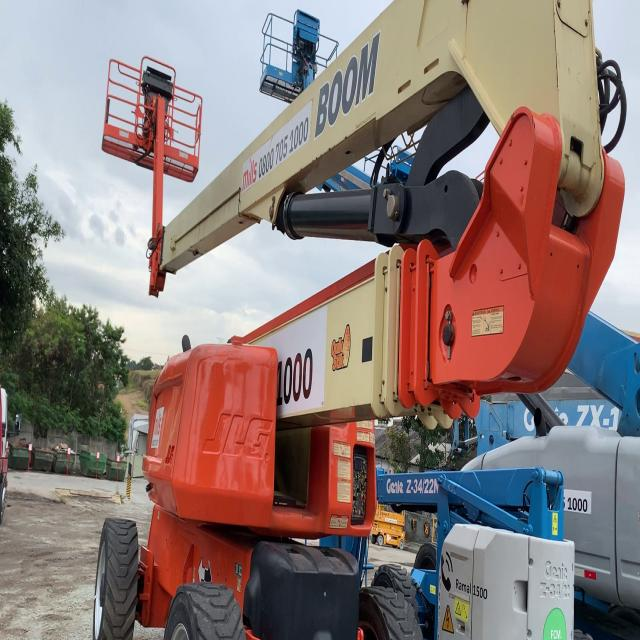Adesivo Longo: (241, 98, 312, 197)
